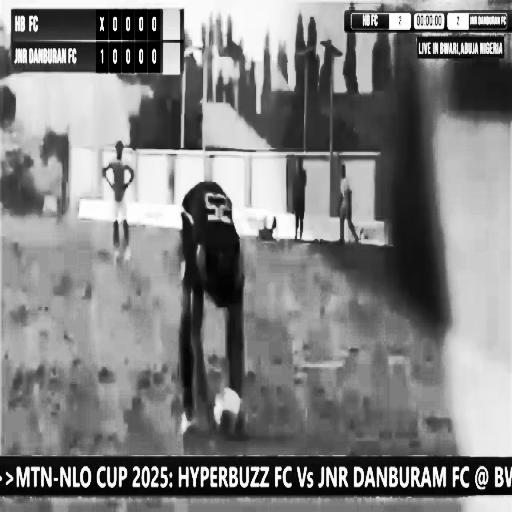ball: (208, 391, 249, 433)
team2: (169, 156, 257, 446)
